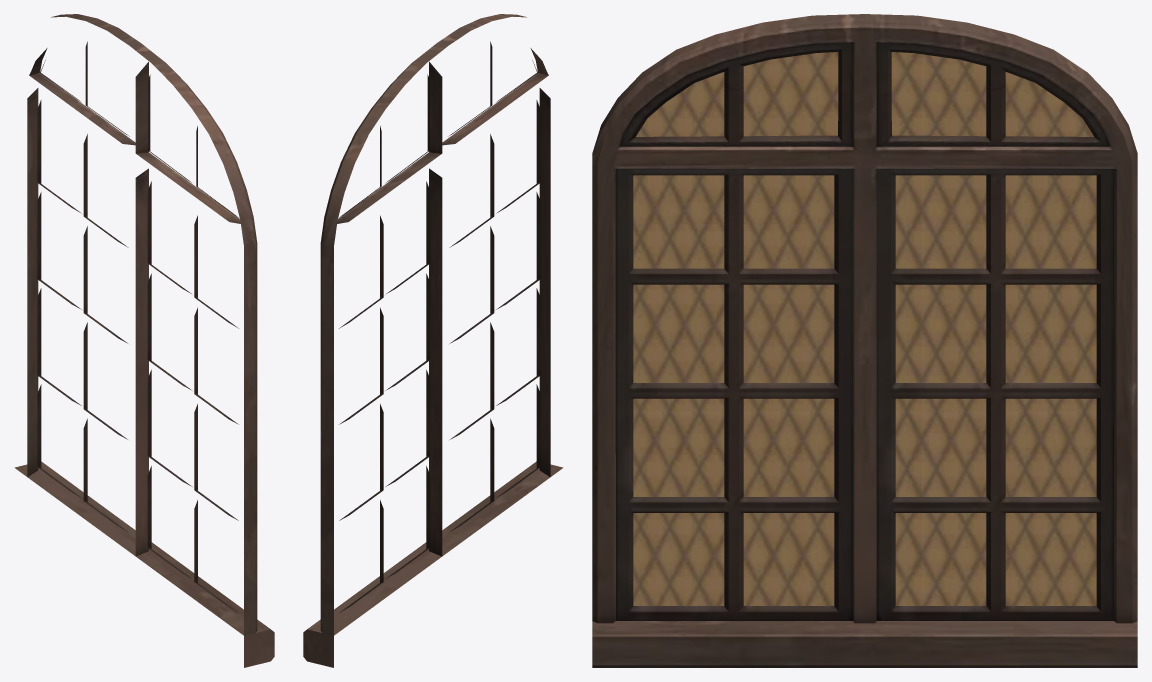
3 renders of one model, left to right at view 1: azimuth 30°, elevation 25°; view 2: azimuth 150°, elevation 25°; view 3: azimuth 270°, elevation 25°, orthographic. The views are drawn at different scales.
Visible parts, largest first — view 1: body0_model0_lod0_mesh1; view 2: body0_model0_lod0_mesh1; view 3: body0_model0_lod0_mesh1, body0_model0_lod0_mesh0.
Part boxes in pixels (x1,y1,x2,y2): body0_model0_lod0_mesh1: (14,14,274,667); body0_model0_lod0_mesh1: (303,14,563,667); body0_model0_lod0_mesh1: (592,14,1137,667); body0_model0_lod0_mesh0: (633,52,1096,605).
Size of the model in its own units: 8.04 by 134 by 104.
Materials: 2 (2 with a texture image).
